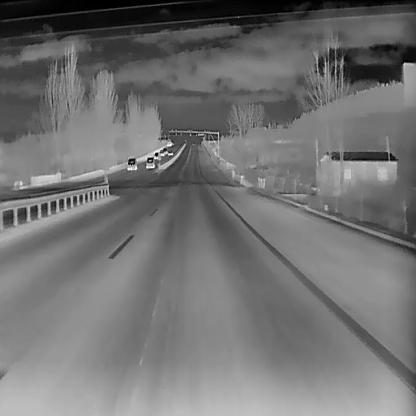car: (126, 156, 137, 170), (146, 156, 154, 167), (153, 150, 160, 158), (158, 149, 164, 156), (162, 146, 168, 153), (167, 149, 173, 155)
